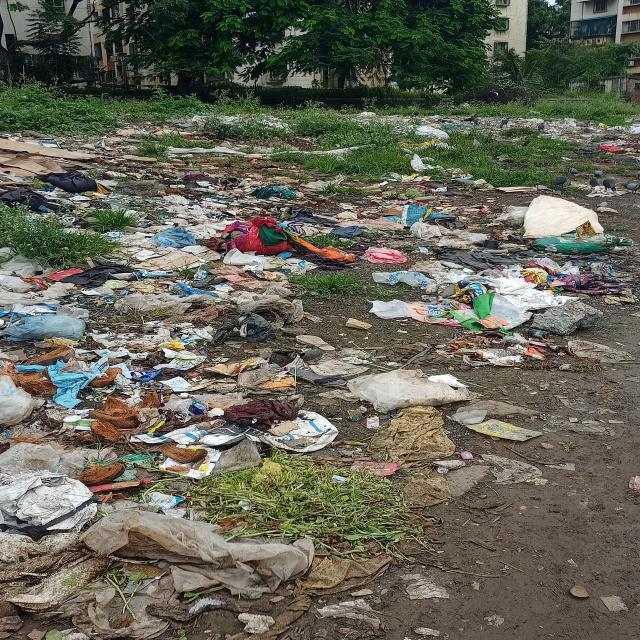garbage: (3, 154, 334, 640), (355, 180, 640, 349), (108, 122, 299, 155)
